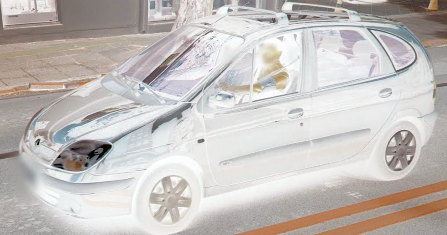car: (21, 11, 437, 232)
